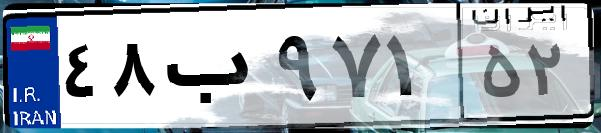1: (385, 28, 445, 110)
2: (525, 38, 570, 115)
4: (57, 26, 110, 100)
5: (475, 38, 525, 113)
7: (330, 28, 385, 110)
8: (110, 28, 158, 98)
9: (270, 28, 330, 110)
ب: (158, 20, 270, 120)
